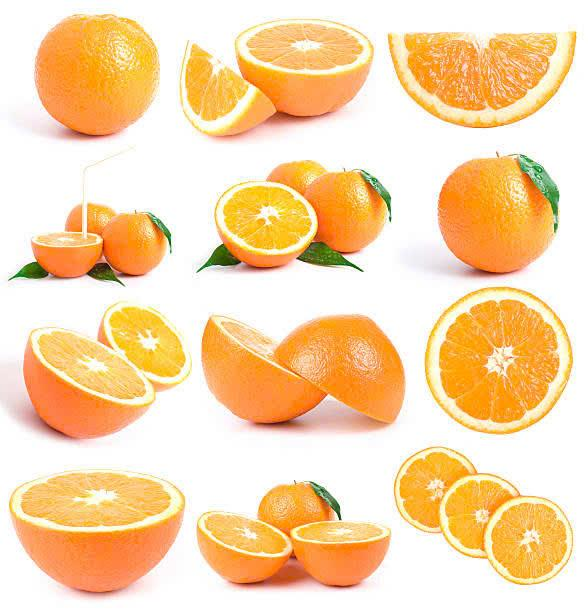orange: (426, 280, 582, 450), (10, 469, 188, 599), (30, 6, 169, 152), (386, 21, 579, 124), (22, 327, 193, 441), (433, 143, 568, 284), (198, 309, 317, 440), (279, 311, 408, 425), (236, 21, 373, 118), (172, 34, 280, 149), (394, 446, 484, 557), (312, 163, 401, 259), (292, 518, 395, 594), (483, 496, 574, 581), (207, 190, 314, 262), (194, 510, 289, 584), (32, 227, 110, 282), (106, 209, 170, 276)
